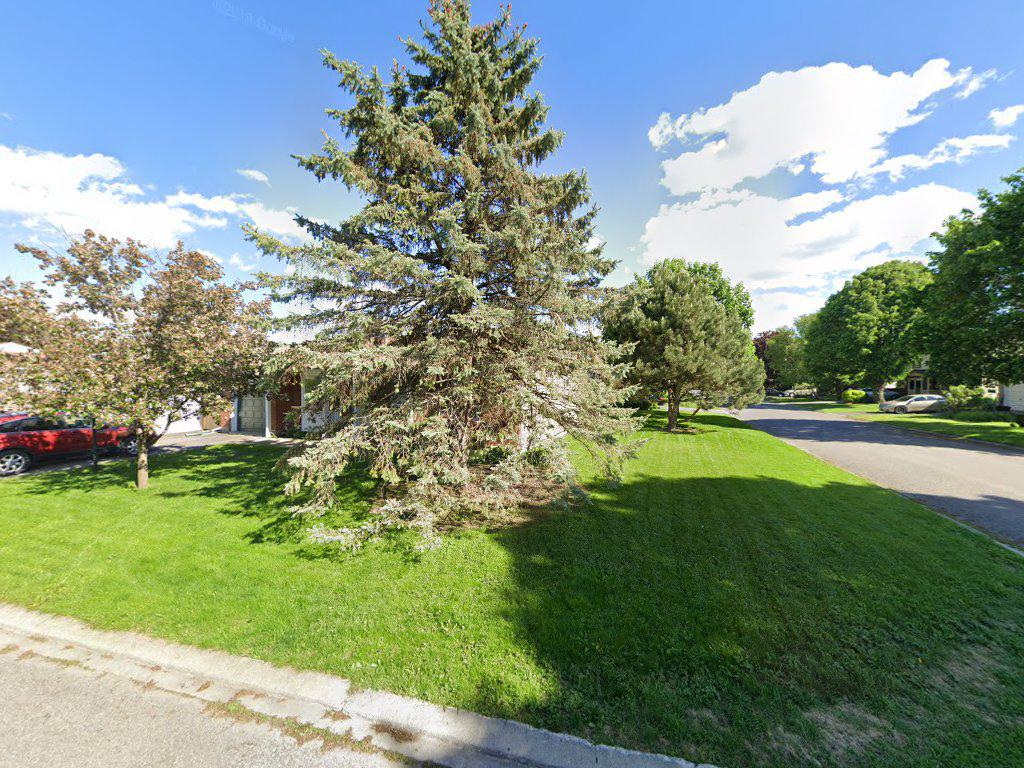trunk: (133, 421, 152, 495)
